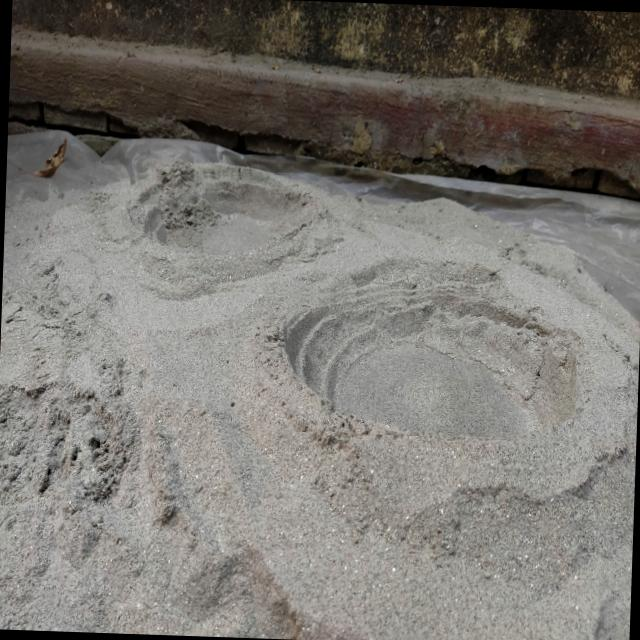C20: (285, 289, 575, 438), (128, 172, 311, 253)
